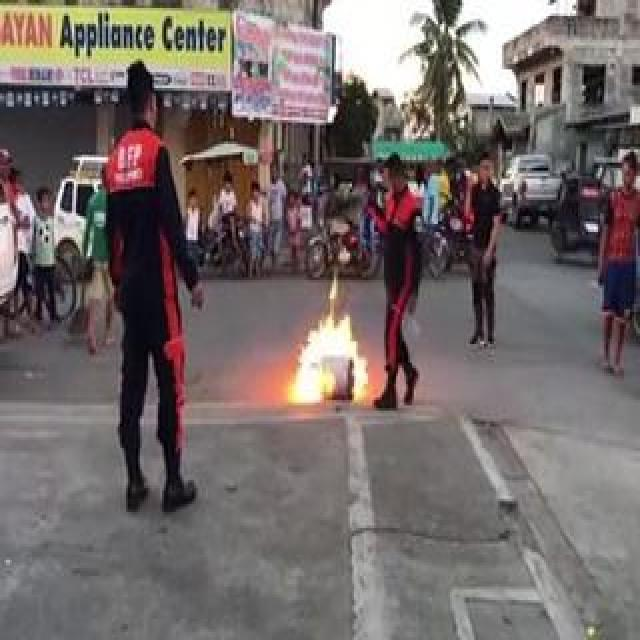Fire: (299, 315, 366, 410)
